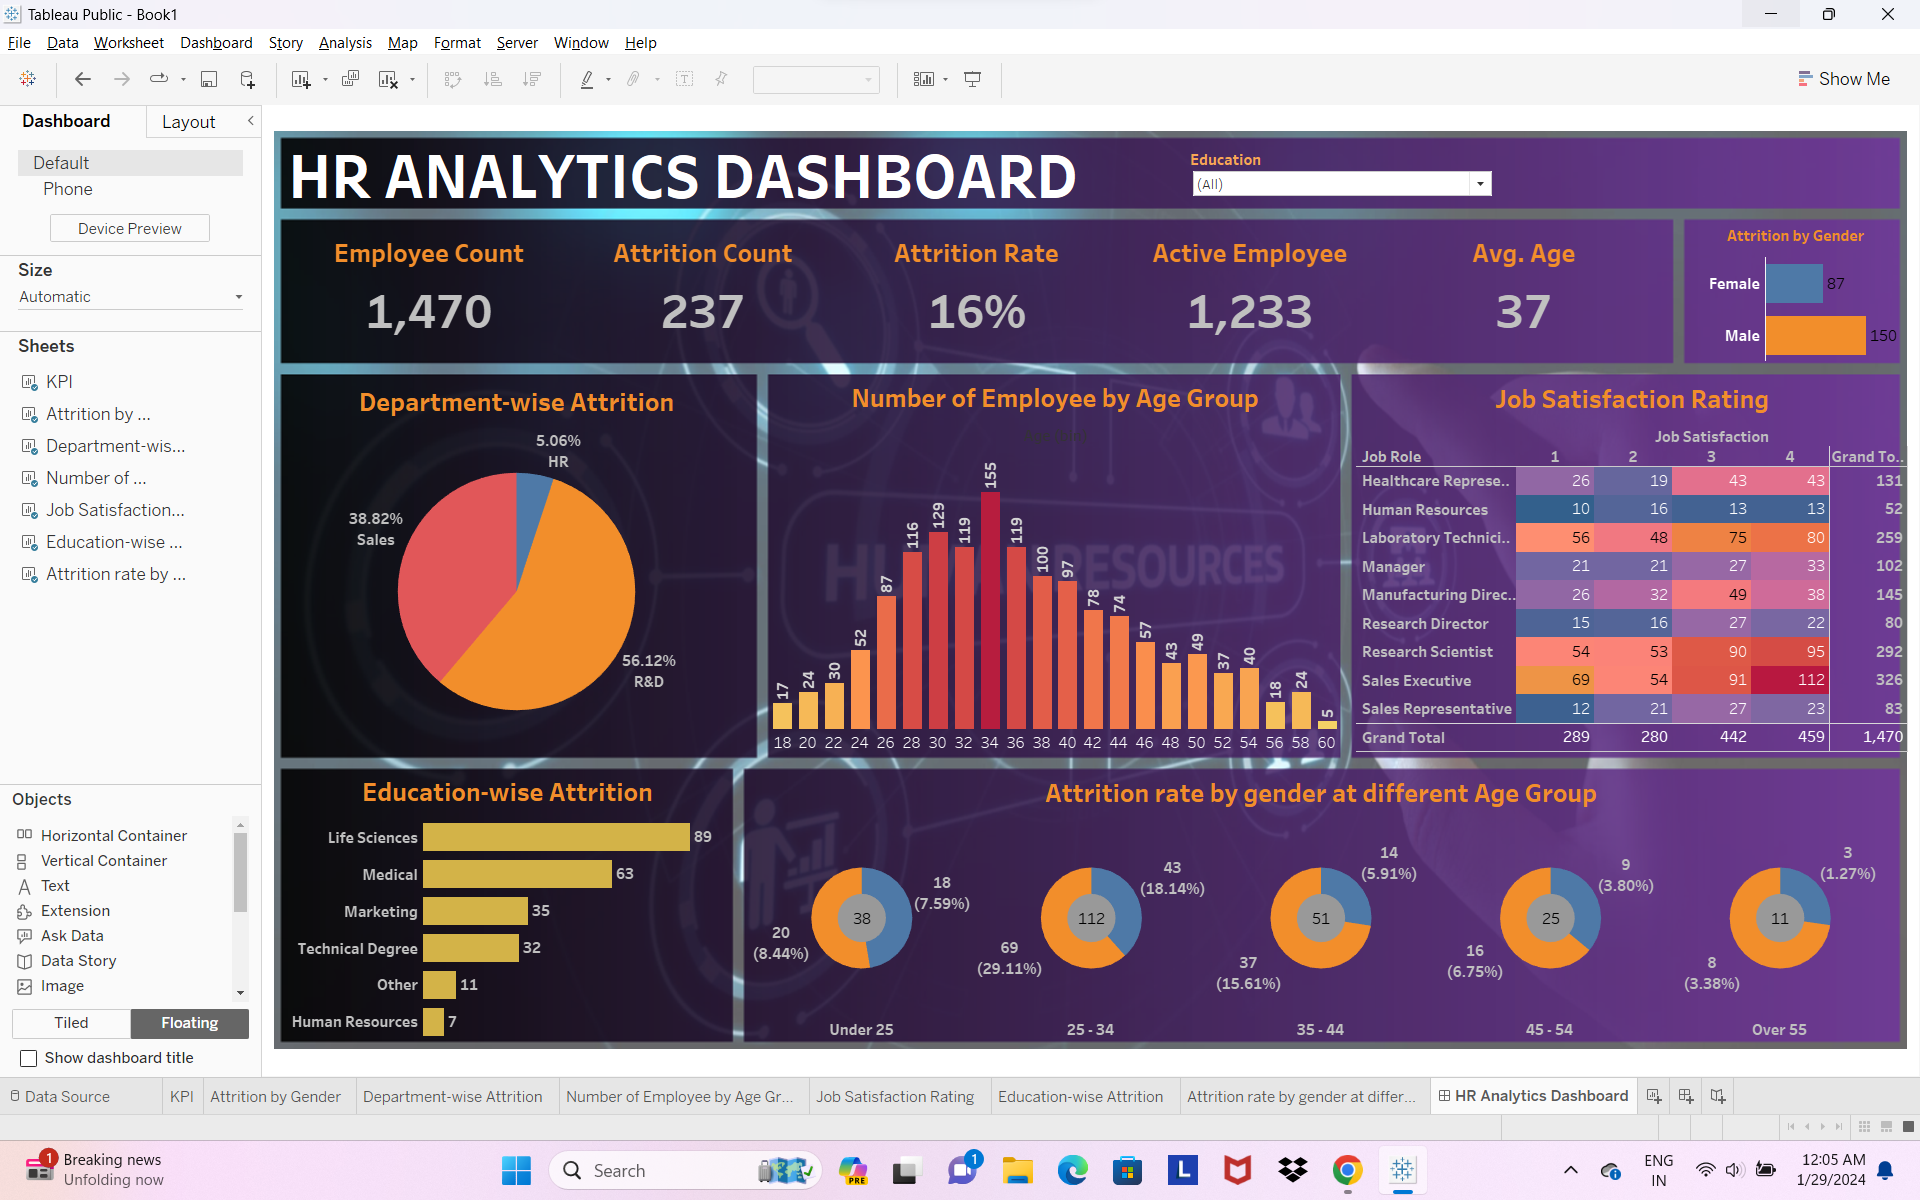

The dashboard page shown, as its layout file describes it:
{"tool":"tableau","page":{"name":"HR Analytics Dashboard","canvas":[1000,1000],"units":"permille","ordinal":0},"visuals":[{"type":"image","param":"Image/HR background.pptx.png","box":[4.8,8.2,990.3,983.5]},{"type":"text","box":[13.9,37.1,553.4,65.9]},{"type":"filter","title":"Department-wise Attrition","param":"[federated.0nz9q6y0co6acf1bobhzv10adlc3].[none:Education:nk]","box":[560.1,45.3,184.1,49.4]},{"type":"worksheet","title":"Attrition by Gender","mark":"Automatic","rows":["Gender"],"cols":["Calculation_1400056583132696576"],"box":[858.8,119.5,133.4,144.2]},{"type":"worksheet","title":"KPI","mark":"Automatic","box":[18.1,127.7,826.2,123.6]},{"type":"worksheet","title":"Number of Employee by Age Group","mark":"Automatic","rows":["Employee Count"],"cols":["Age (bin)"],"box":[306.6,279.1,344,389.3]},{"type":"worksheet","title":"Job Satisfaction Rating","mark":"Square","rows":["Job Role"],"cols":["Job Satisfaction"],"box":[660.2,280.1,333.1,386.2]},{"type":"worksheet","title":"Department-wise Attrition","mark":"Pie","box":[13.9,283.2,279.4,385.2]},{"type":"worksheet","title":"Education-wise Attrition","mark":"Automatic","rows":["Education Field"],"cols":["Calculation_1400056583132696576"],"box":[12.7,684.9,271,278.1]},{"type":"worksheet","title":"Attrition rate by gender at different Age Group","mark":"Pie","rows":["Calculation_1400056583175258116","Calculation_1400056583175258116"],"cols":["CF_age band"],"box":[292.7,685.9,692.8,277]}]}

Visuals, with their boxes on the dashboard's canvas, which has no fixed pixel size, in thousandths of its width and height (x1, y1, x2, y2). These are canvas units, not pixel positions in the 1920x1200 screenshot, which may show the page scaled, cropped or inside an application window:
image: detection(5, 8, 995, 992)
text: detection(14, 37, 567, 103)
"Department-wise Attrition" filter: detection(560, 45, 744, 95)
"Attrition by Gender" worksheet: detection(859, 120, 992, 264)
"KPI" worksheet: detection(18, 128, 844, 251)
"Number of Employee by Age Group" worksheet: detection(307, 279, 651, 668)
"Job Satisfaction Rating" worksheet (Square marks): detection(660, 280, 993, 666)
"Department-wise Attrition" worksheet (Pie marks): detection(14, 283, 293, 668)
"Education-wise Attrition" worksheet: detection(13, 685, 284, 963)
"Attrition rate by gender at different Age Group" worksheet (Pie marks): detection(293, 686, 986, 963)
